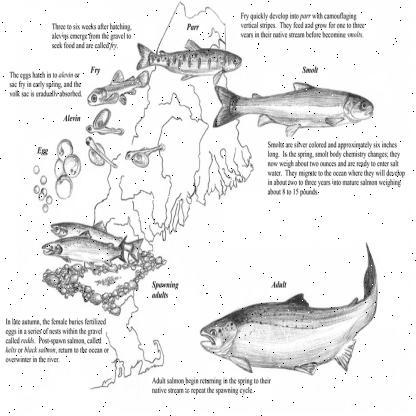fish: (199, 240, 377, 374), (212, 78, 374, 136), (134, 38, 242, 81), (50, 221, 144, 261), (42, 228, 127, 264)
